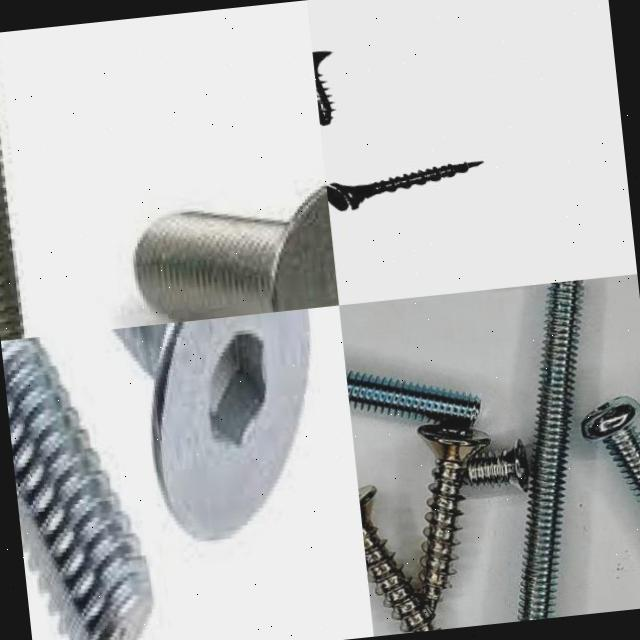Screw: (113, 308, 312, 545), (0, 337, 152, 640), (135, 183, 339, 321), (518, 279, 583, 621), (417, 424, 490, 612), (358, 485, 436, 633), (324, 149, 495, 216), (346, 370, 479, 428), (581, 396, 640, 504), (464, 439, 528, 491), (312, 50, 334, 124)
